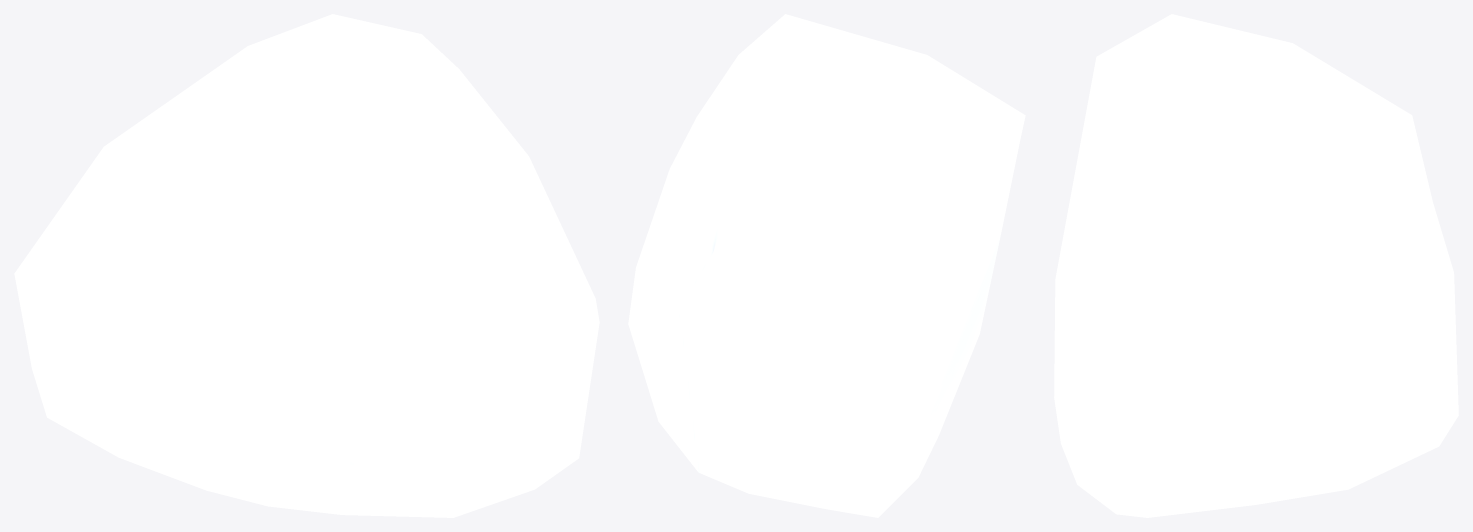
The model's file is LowPolyRock_3.FBX.
The picture shows the model from 3 angles, left to right: view 1: azimuth 30°, elevation 25°; view 2: azimuth 150°, elevation 25°; view 3: azimuth 270°, elevation 25°; orthographic projection. The views are drawn at different scales.
Visible parts, largest first — view 1: Rock_5; view 2: Rock_5; view 3: Rock_5.
Boxes of the visible parts, x1,y1,x2,y2 form: Rock_5: (14, 14, 599, 517); Rock_5: (628, 14, 1025, 517); Rock_5: (1054, 14, 1458, 517).
Bounding box in the file's own units: 5.63 × 5.05 × 4.69.
Materials: 1 (1 with a texture image).
